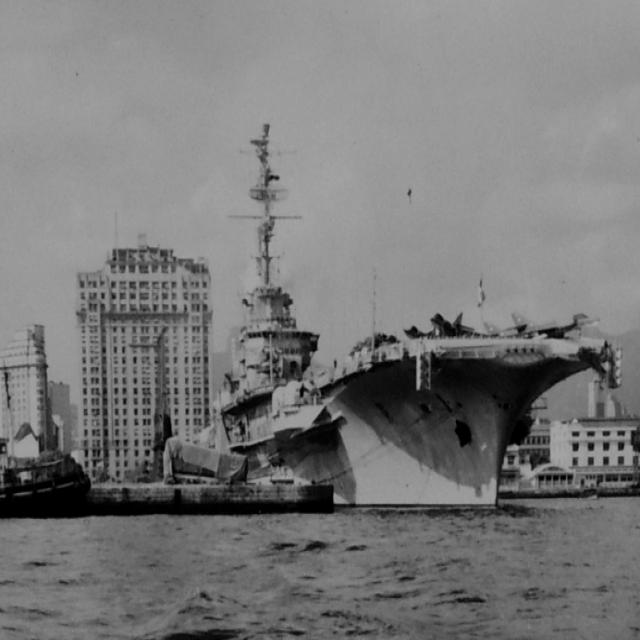Portanaves: (113, 119, 621, 523)
